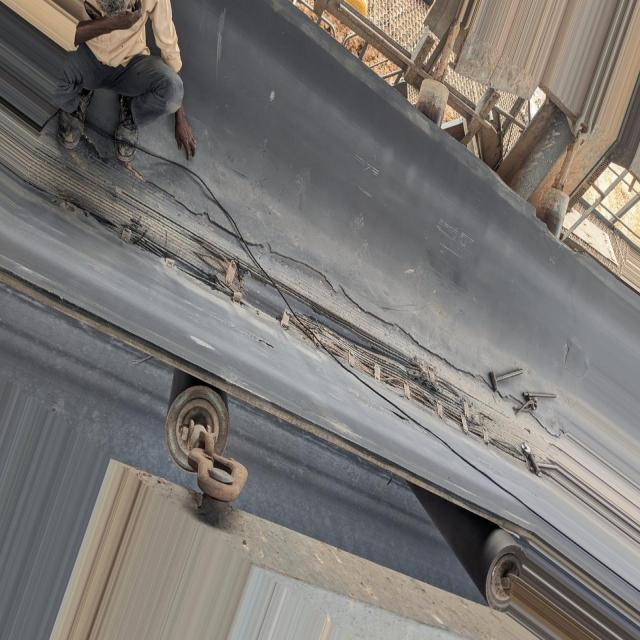Human: (60, 0, 196, 160)
Other Objects: (488, 358, 564, 415)
Tear: (129, 182, 554, 477)
